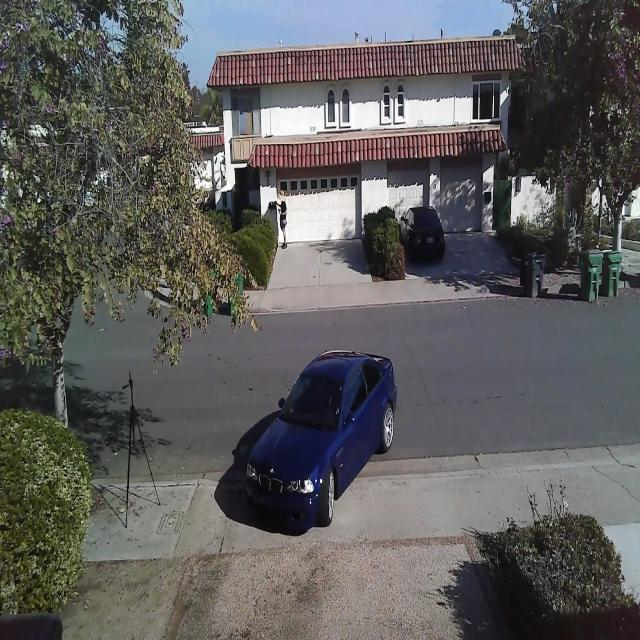Carbeetle: (239, 341, 404, 537)
Civilian: (399, 205, 445, 263)
